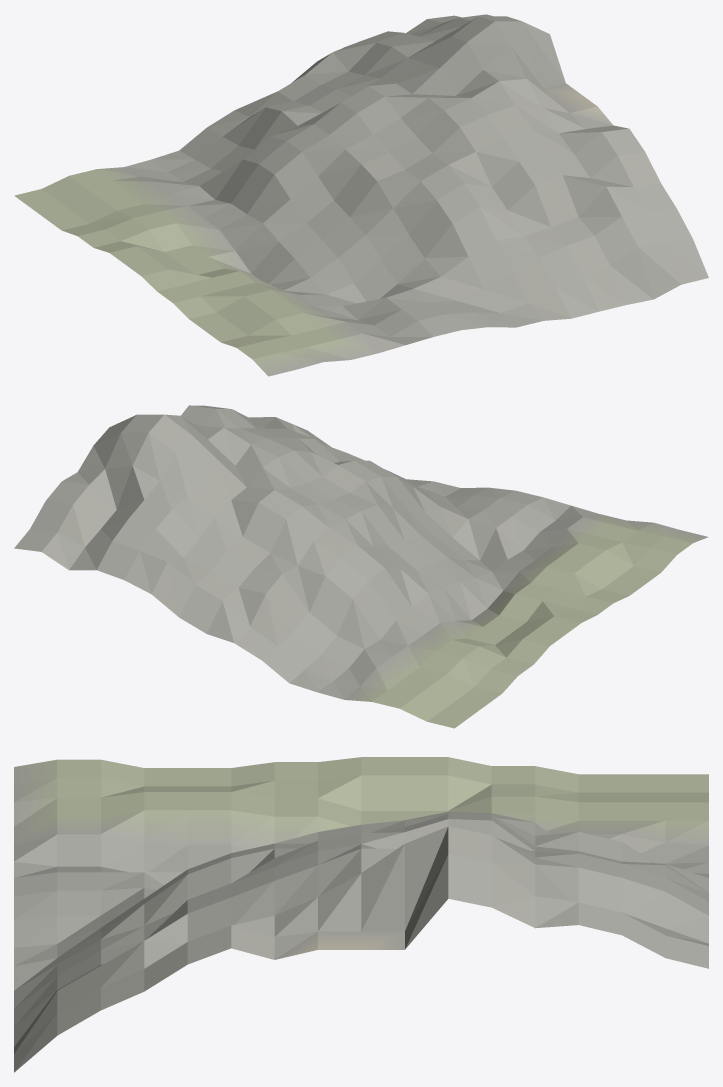
3 views of the same model, one above another, from view 1: azimuth 30°, elevation 25°; view 2: azimuth 150°, elevation 25°; view 3: azimuth 270°, elevation 25° (orthographic). The views are drawn at different scales.
Bounding box in the file's own units: 32 × 11.24 × 32.
